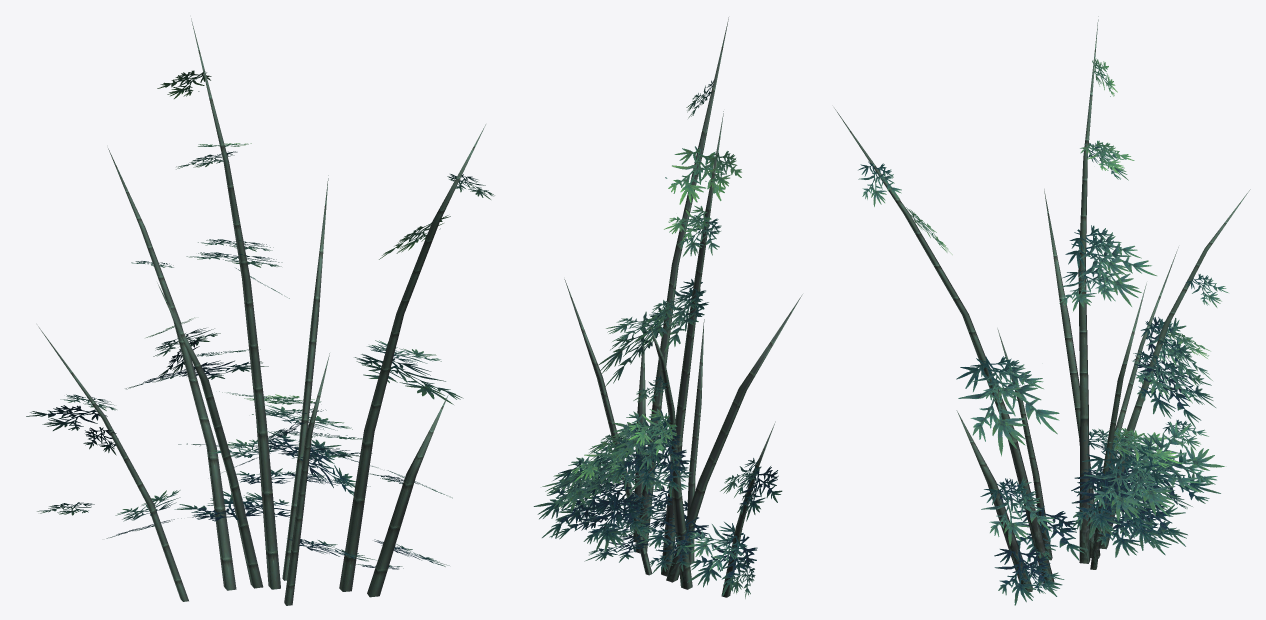
File: SC001Jzhiwu_06.FBX
The picture shows the model from 3 angles, left to right: view 1: azimuth 30°, elevation 25°; view 2: azimuth 150°, elevation 25°; view 3: azimuth 270°, elevation 25°; orthographic projection. The views are drawn at different scales.
Parts seen in each view (by area): view 1: SC001Jzhiwu_06 (×2); view 2: SC001Jzhiwu_06 (×2); view 3: SC001Jzhiwu_06 (×2).
Boxes of the visible parts, box(x1,y1,x2,y2) form: SC001Jzhiwu_06 (×2): box(26, 18, 494, 605); SC001Jzhiwu_06 (×2): box(533, 17, 802, 598); SC001Jzhiwu_06 (×2): box(834, 16, 1250, 605).
Size of the model in its own units: 6.51 by 10.63 by 7.86.
